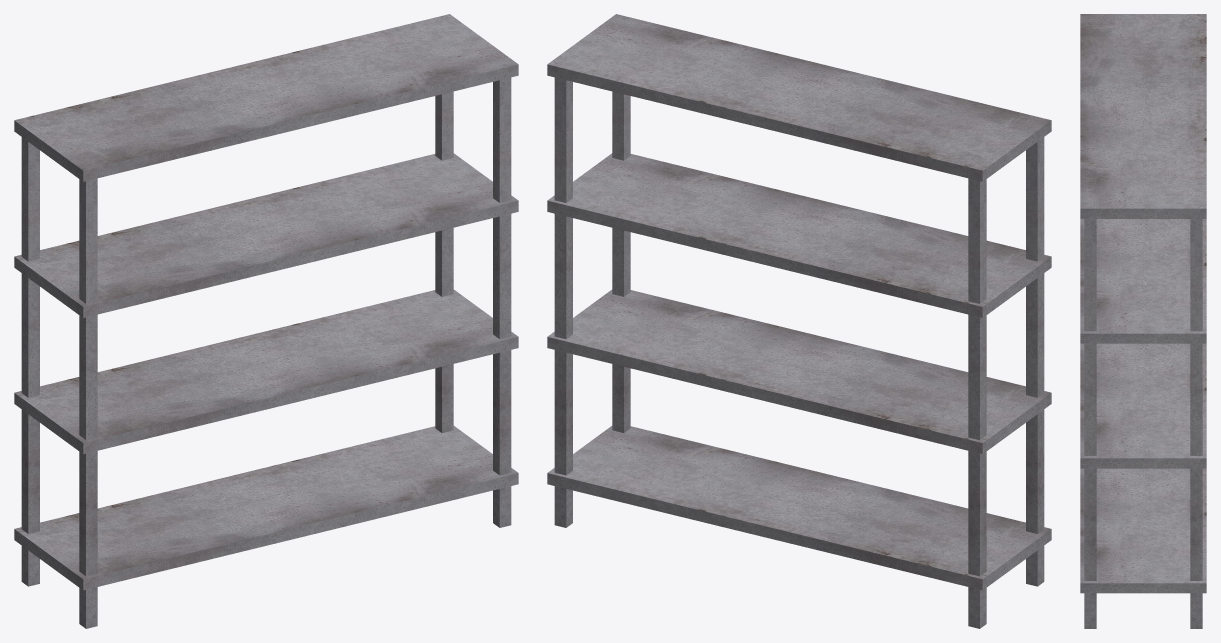
File: shelving.glb
The picture shows the model from 3 angles, left to right: view 1: azimuth 30°, elevation 25°; view 2: azimuth 150°, elevation 25°; view 3: azimuth 270°, elevation 25°; orthographic projection. The views are drawn at different scales.
Parts seen in each view (by area): view 1: Shelving; view 2: Shelving; view 3: Shelving.
Boxes of the visible parts, box(x1,y1,x2,y2) form: Shelving: box(14, 14, 518, 628); Shelving: box(547, 14, 1051, 628); Shelving: box(1080, 14, 1206, 628).
Bounding box in the file's own units: 1.98 × 2 × 0.5416.
1 material, 1 textured.
